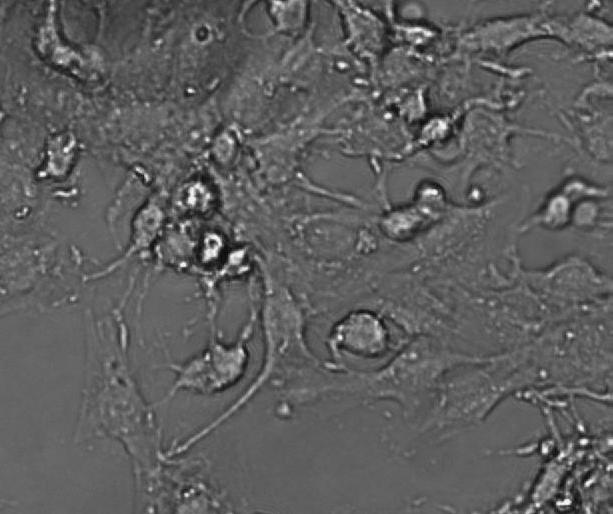Dead: (172, 340, 250, 390), (327, 306, 390, 358), (33, 128, 82, 190), (390, 6, 443, 56), (379, 200, 433, 244), (202, 120, 245, 169), (206, 242, 258, 282), (173, 170, 220, 213), (409, 177, 448, 222), (555, 173, 613, 203), (414, 114, 463, 147), (536, 190, 573, 232), (388, 87, 431, 122), (569, 197, 604, 231), (198, 225, 229, 263), (542, 483, 587, 509)
